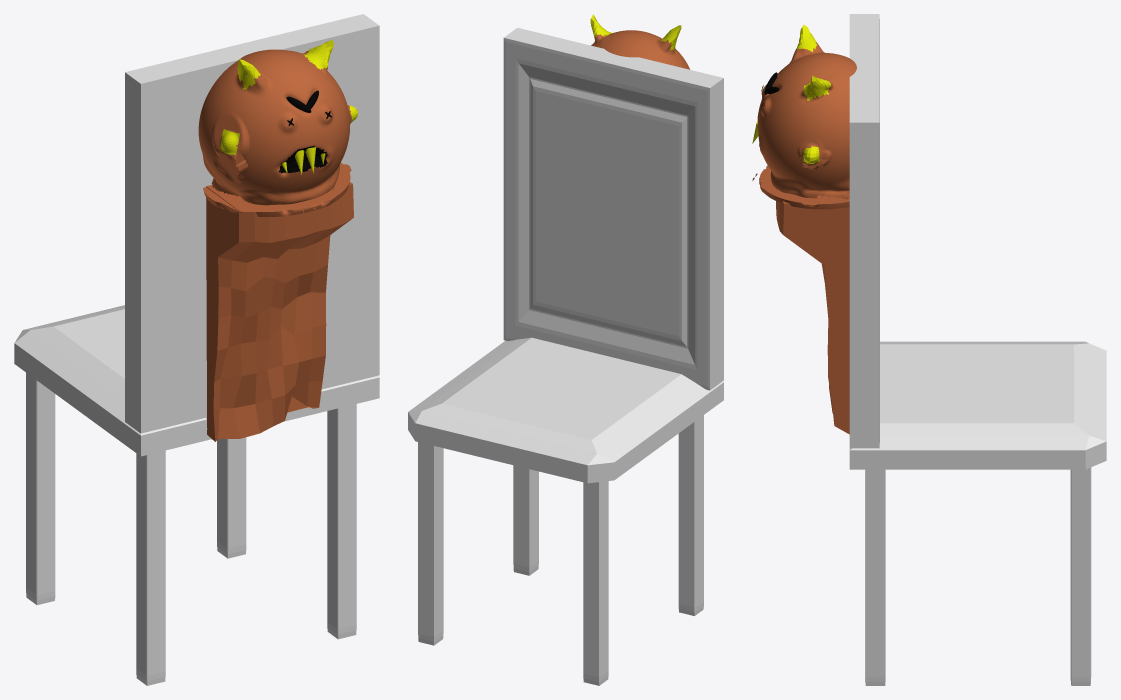
File: chair.fbx
3 views of the same model, side by side, from view 1: azimuth 30°, elevation 25°; view 2: azimuth 150°, elevation 25°; view 3: azimuth 270°, elevation 25° (orthographic). The views are drawn at different scales.
Visible parts, largest first — view 1: Cube.002, Cube.006, Sphere, Cube, Cube.005, Cube.004, Cube.001, Cube.003; view 2: Cube.002, Cube, Cube.001, Cube.003, Cube.005, Cube.004, Sphere; view 3: Cube, Sphere, Cube.002, Cube.006, Cube.003, Cube.004.
Boxes of the visible parts, <box> form: Cube.002: <box>125,14,379,433</box>; Cube.006: <box>206,182,353,441</box>; Sphere: <box>198,40,357,216</box>; Cube: <box>14,305,379,456</box>; Cube.005: <box>136,450,165,685</box>; Cube.004: <box>327,404,356,639</box>; Cube.001: <box>26,372,55,604</box>; Cube.003: <box>217,437,246,558</box>; Cube.002: <box>503,27,723,390</box>; Cube: <box>408,337,723,483</box>; Cube.001: <box>583,481,608,685</box>; Cube.003: <box>418,442,443,645</box>; Cube.005: <box>678,415,703,615</box>; Cube.004: <box>513,465,538,575</box>; Sphere: <box>590,14,689,69</box>; Cube: <box>849,341,1106,469</box>; Sphere: <box>752,24,856,209</box>; Cube.002: <box>849,14,879,448</box>; Cube.006: <box>776,189,849,434</box>; Cube.003: <box>1070,467,1091,685</box>; Cube.004: <box>865,469,885,685</box>.
Bounding box in the file's own units: 50 × 127 × 68.97.
